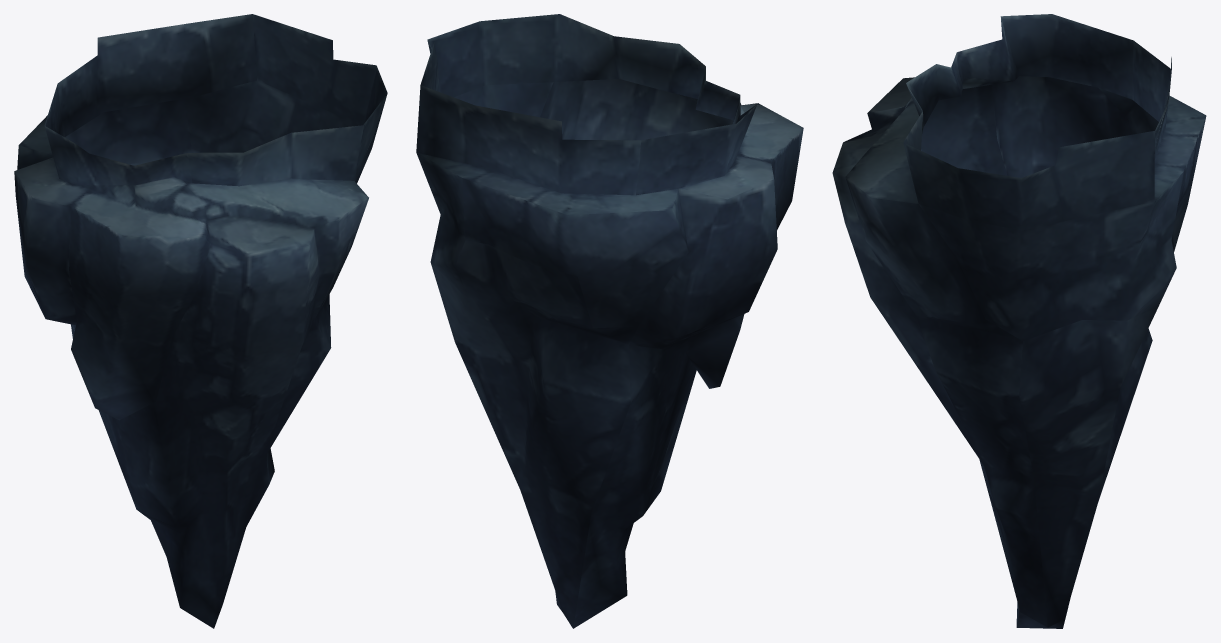
Rendered from Area_04_23.fbx.
3 renders of one model, left to right at view 1: azimuth 30°, elevation 25°; view 2: azimuth 150°, elevation 25°; view 3: azimuth 270°, elevation 25°, orthographic. The views are drawn at different scales.
Visible parts, largest first — view 1: Area_04_23; view 2: Area_04_23; view 3: Area_04_23.
Boxes of the visible parts, bbox=[...] form: Area_04_23: bbox=[14, 14, 387, 628]; Area_04_23: bbox=[416, 14, 803, 628]; Area_04_23: bbox=[832, 14, 1206, 628].
Bounding box in the file's own units: 1500 × 2259 × 1376.
